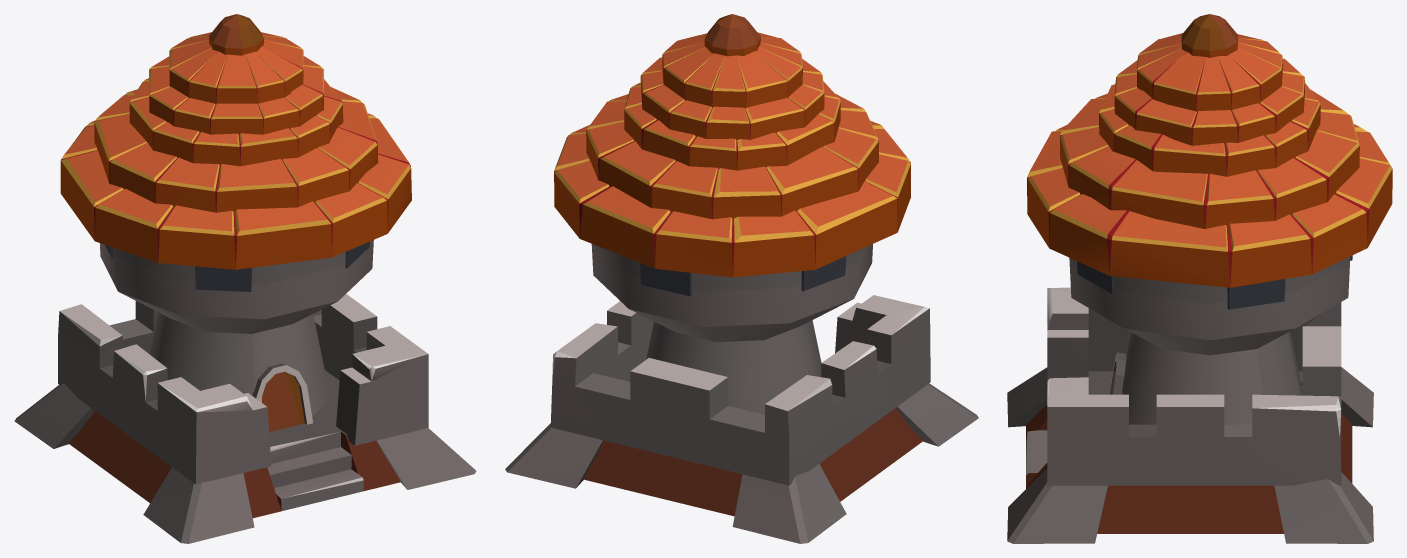
Rendered from Land_Reg_M_Tower_B.fbx.
3 views of the same model, side by side, from view 1: azimuth 30°, elevation 25°; view 2: azimuth 150°, elevation 25°; view 3: azimuth 270°, elevation 25° (orthographic). The views are drawn at different scales.
Visible parts, largest first — view 1: Color_04, Color_01, Color_03, Color_02; view 2: Color_04, Color_01, Color_03, Color_02; view 3: Color_04, Color_01, Color_03, Color_02.
Part boxes in pixels (x1,y1,x2,y2): Color_04: [14, 294, 476, 543]; Color_01: [60, 87, 411, 269]; Color_03: [99, 14, 373, 431]; Color_02: [129, 32, 343, 166]; Color_04: [505, 295, 978, 543]; Color_01: [554, 93, 910, 277]; Color_03: [591, 14, 872, 414]; Color_02: [624, 32, 840, 170]; Color_04: [1007, 287, 1373, 543]; Color_01: [1027, 89, 1392, 287]; Color_03: [1069, 14, 1352, 424]; Color_02: [1099, 33, 1320, 176].
Size of the model in its own units: 24.97 by 33.46 by 25.79.
